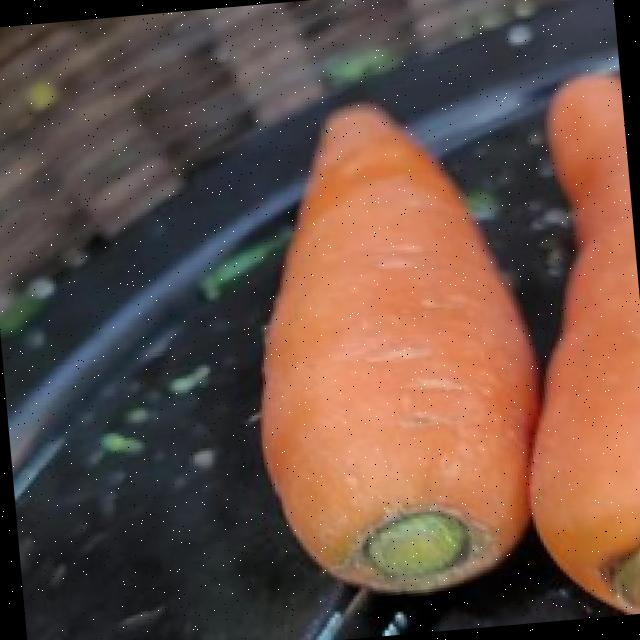carrot: (261, 105, 540, 591), (530, 76, 640, 613)
